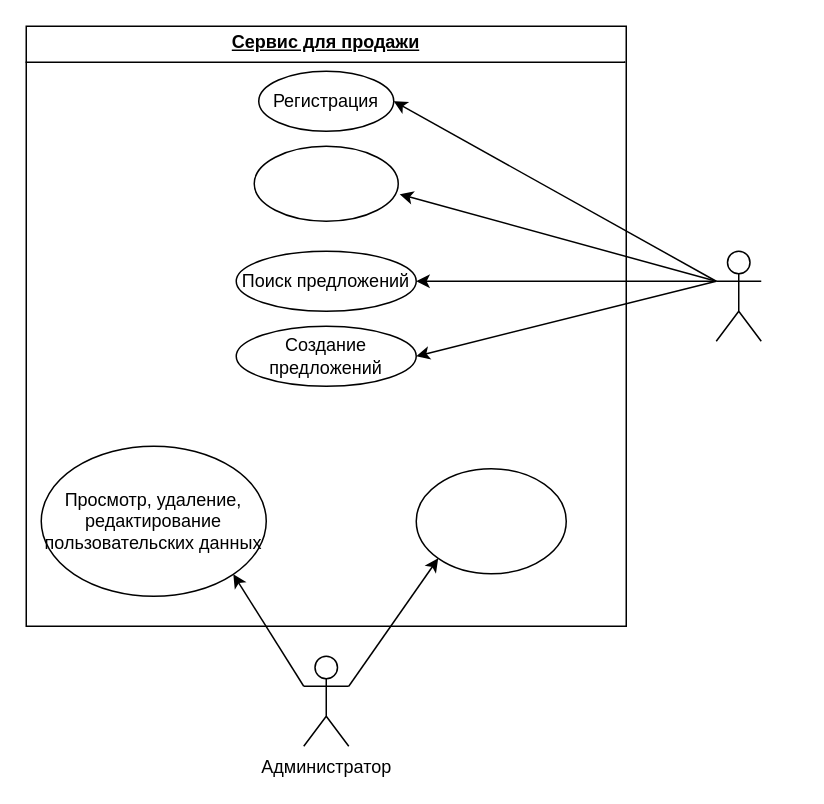
Image size: 824x804. Some labels were removed from this diagram. The centre of each missing label's shape, as x and y in pixels:
Пользователь: the point at 738,295
Просмотр предложений: the point at 325,183
Управление системными настройками: the point at 490,520
